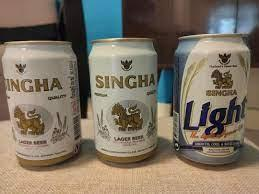metal: (3, 37, 84, 169), (173, 33, 250, 167), (88, 35, 161, 164)
